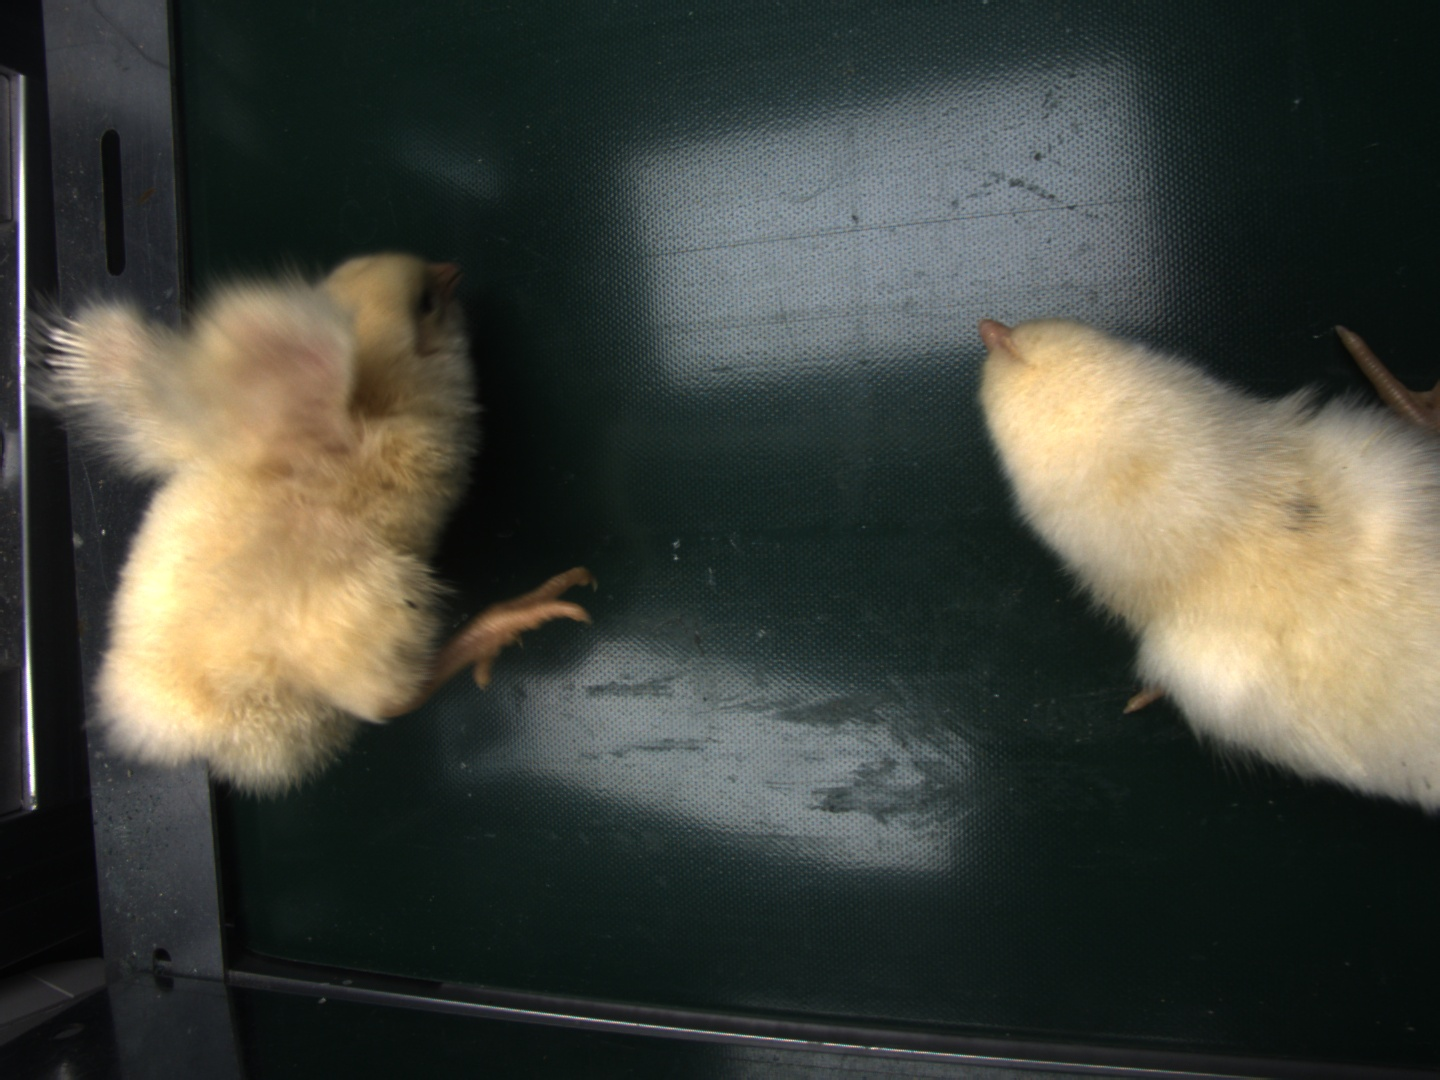male: (45, 310, 98, 410)
